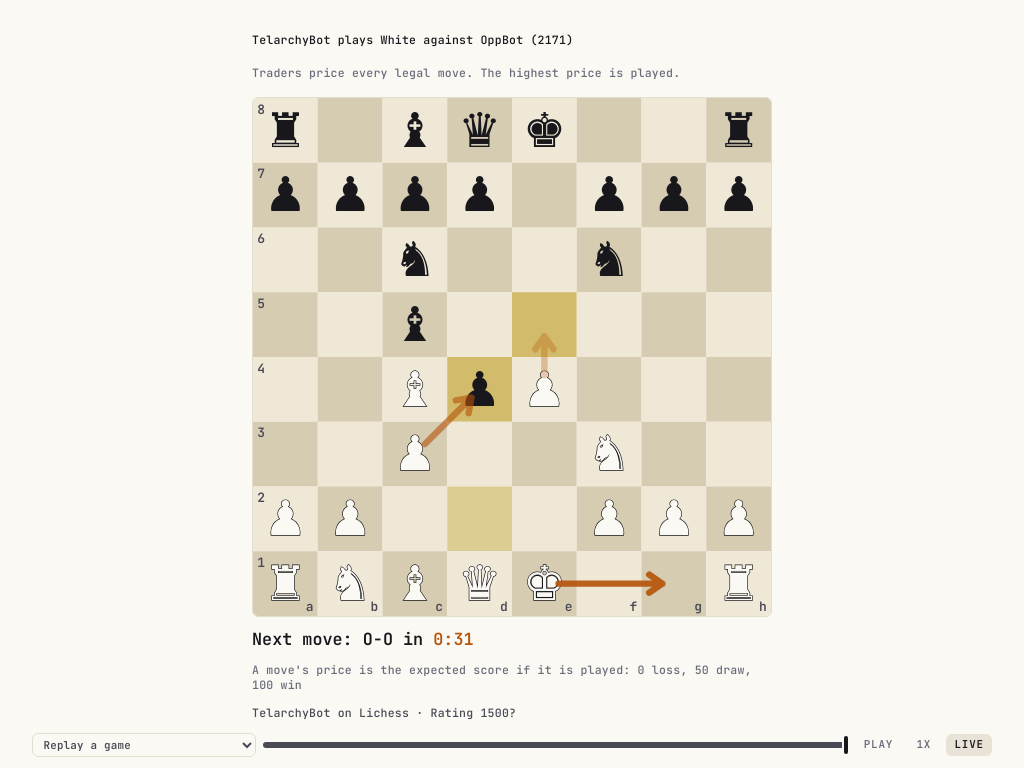
Test: the replay › scrubbing a game draws that ply, says who played what, and Live returns
Step 1. Select "Game 2 · vs OldBot · lost" in the dropdown with class "chess-games" → x=144, y=745, box top-left (32, 733), bottom-right (256, 757)
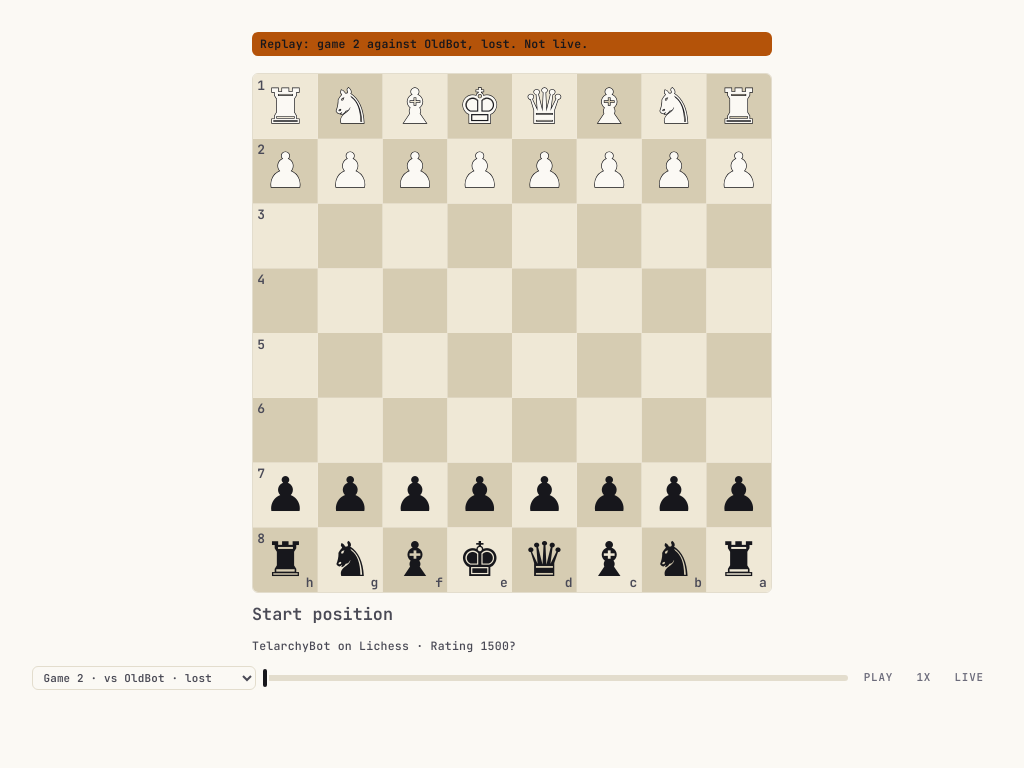
Step 2. Set the slider with class "chess-scrub" to "2" → x=556, y=678, box top-left (263, 675), bottom-right (848, 681)
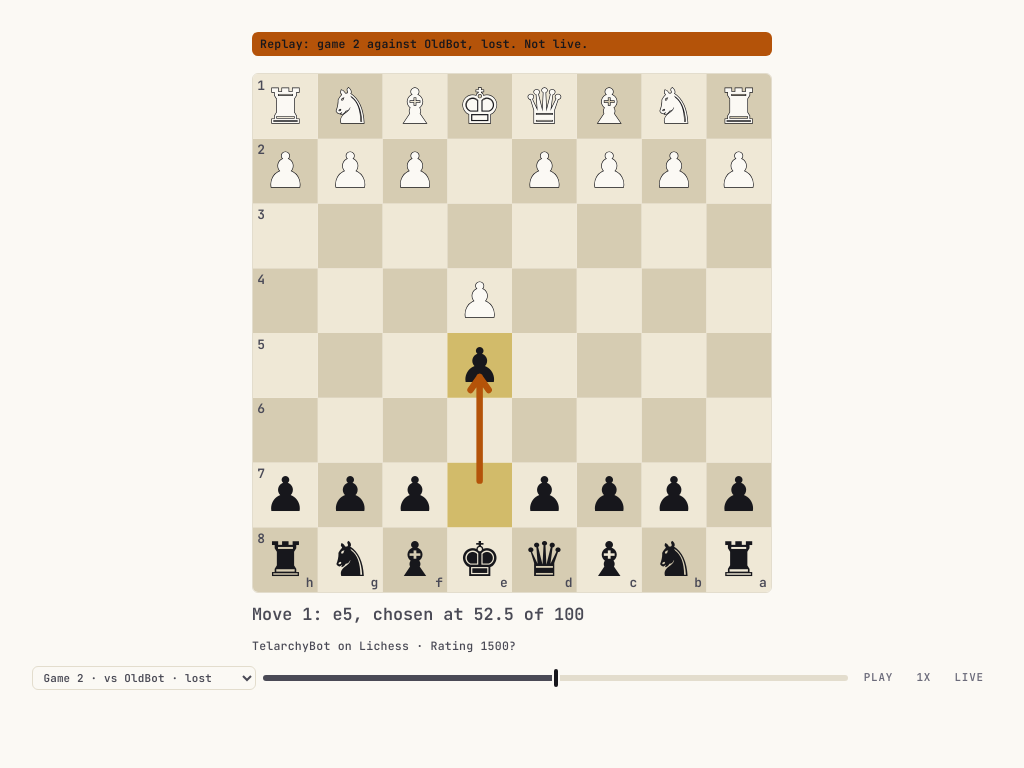
Expected: the text with class "chess-next" reads "Move 1: e5, chosen at 52.5 of 100", top-left (252, 603), bottom-right (584, 625)
Step 3. Set the slider with class "chess-scrub" to "3" → x=698, y=678, box top-left (263, 675), bottom-right (848, 681)
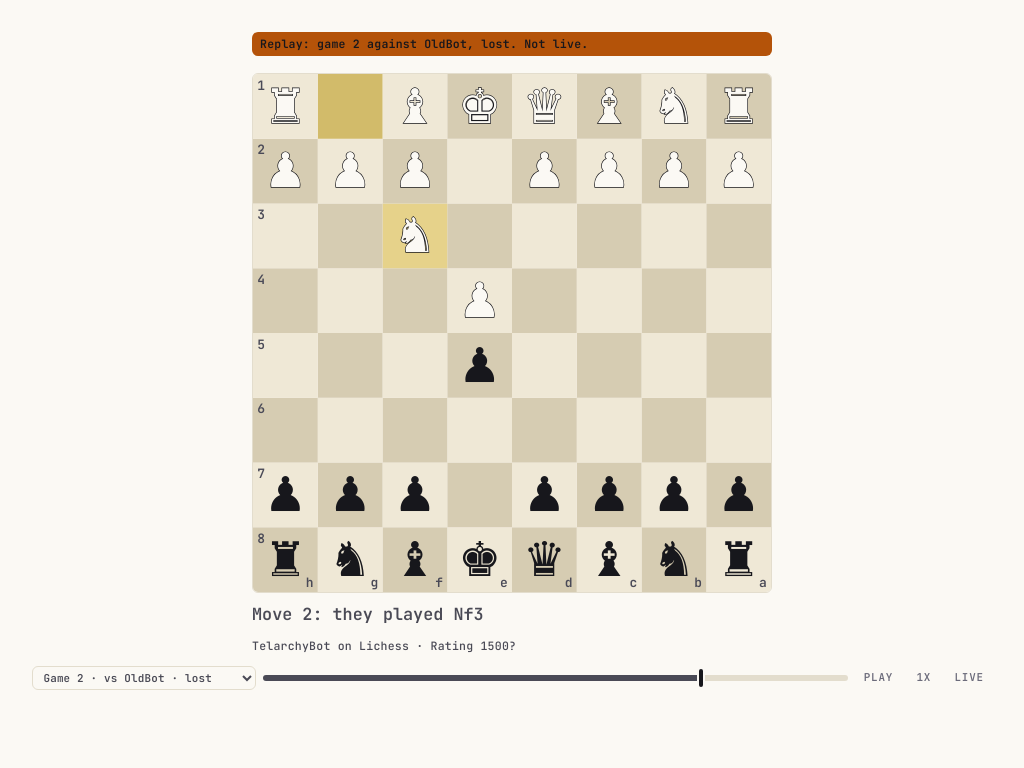
Expected: the text with class "chess-next" reads "Move 2: they played Nf3", top-left (252, 603), bottom-right (484, 625)
Step 4. Set the slider with class "chess-scrub" to "4" → x=840, y=678, box top-left (263, 675), bottom-right (848, 681)
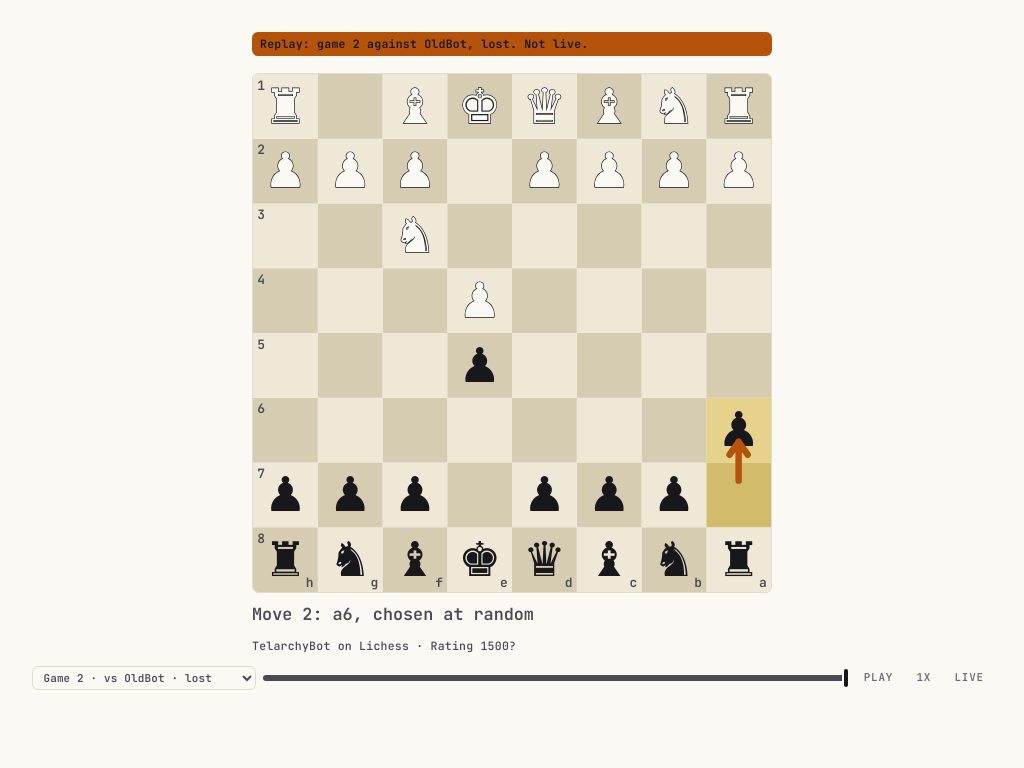
Expected: the text with class "chess-next" reads "Move 2: a6, chosen at random", top-left (252, 603), bottom-right (534, 625)
Step 5. Click the button with class "chess-live-btn" → x=969, y=678, box top-left (946, 666), bottom-right (992, 689)
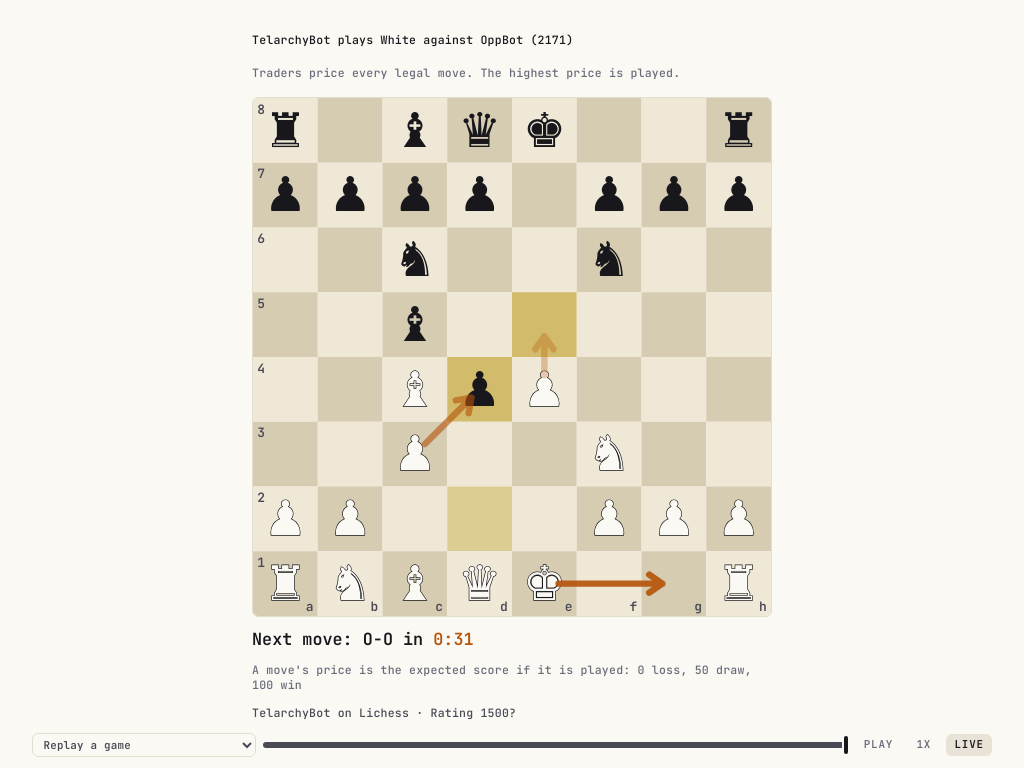
Expected: the element with class "chess-next" shows "Next move: O-O", top-left (252, 628), bottom-right (433, 650)
